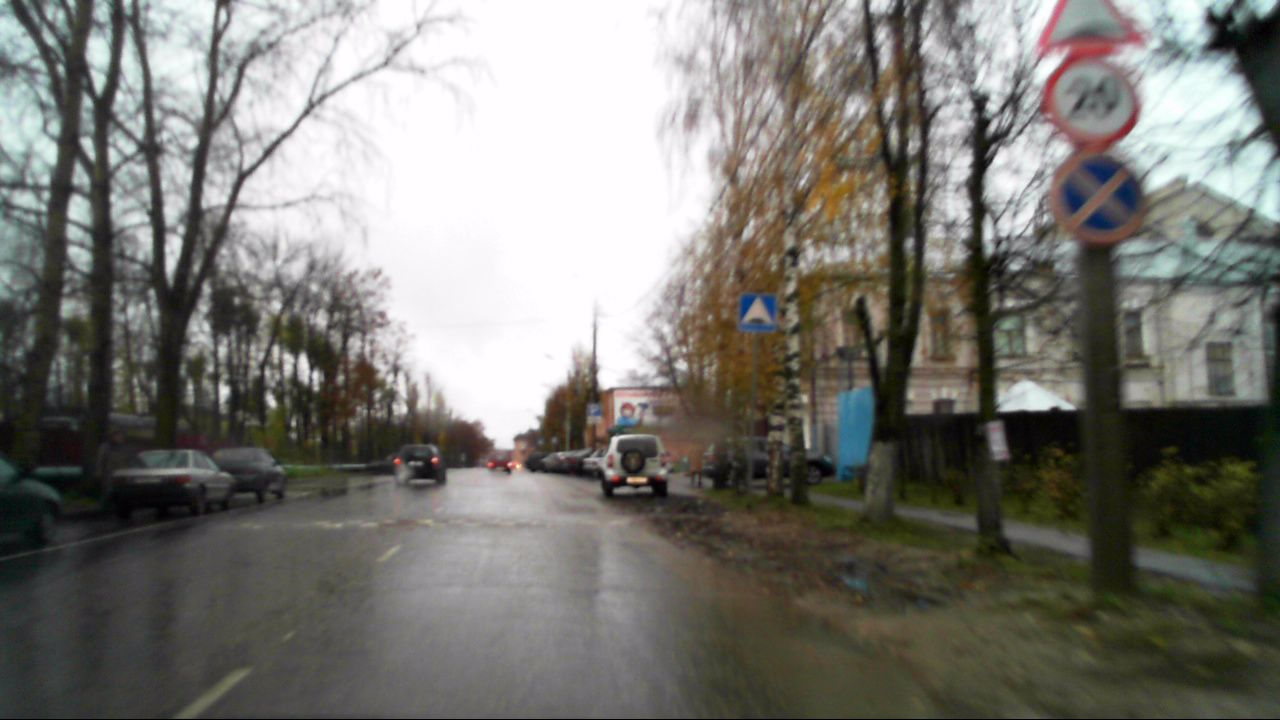No Parking: (1051, 149, 1143, 243)
